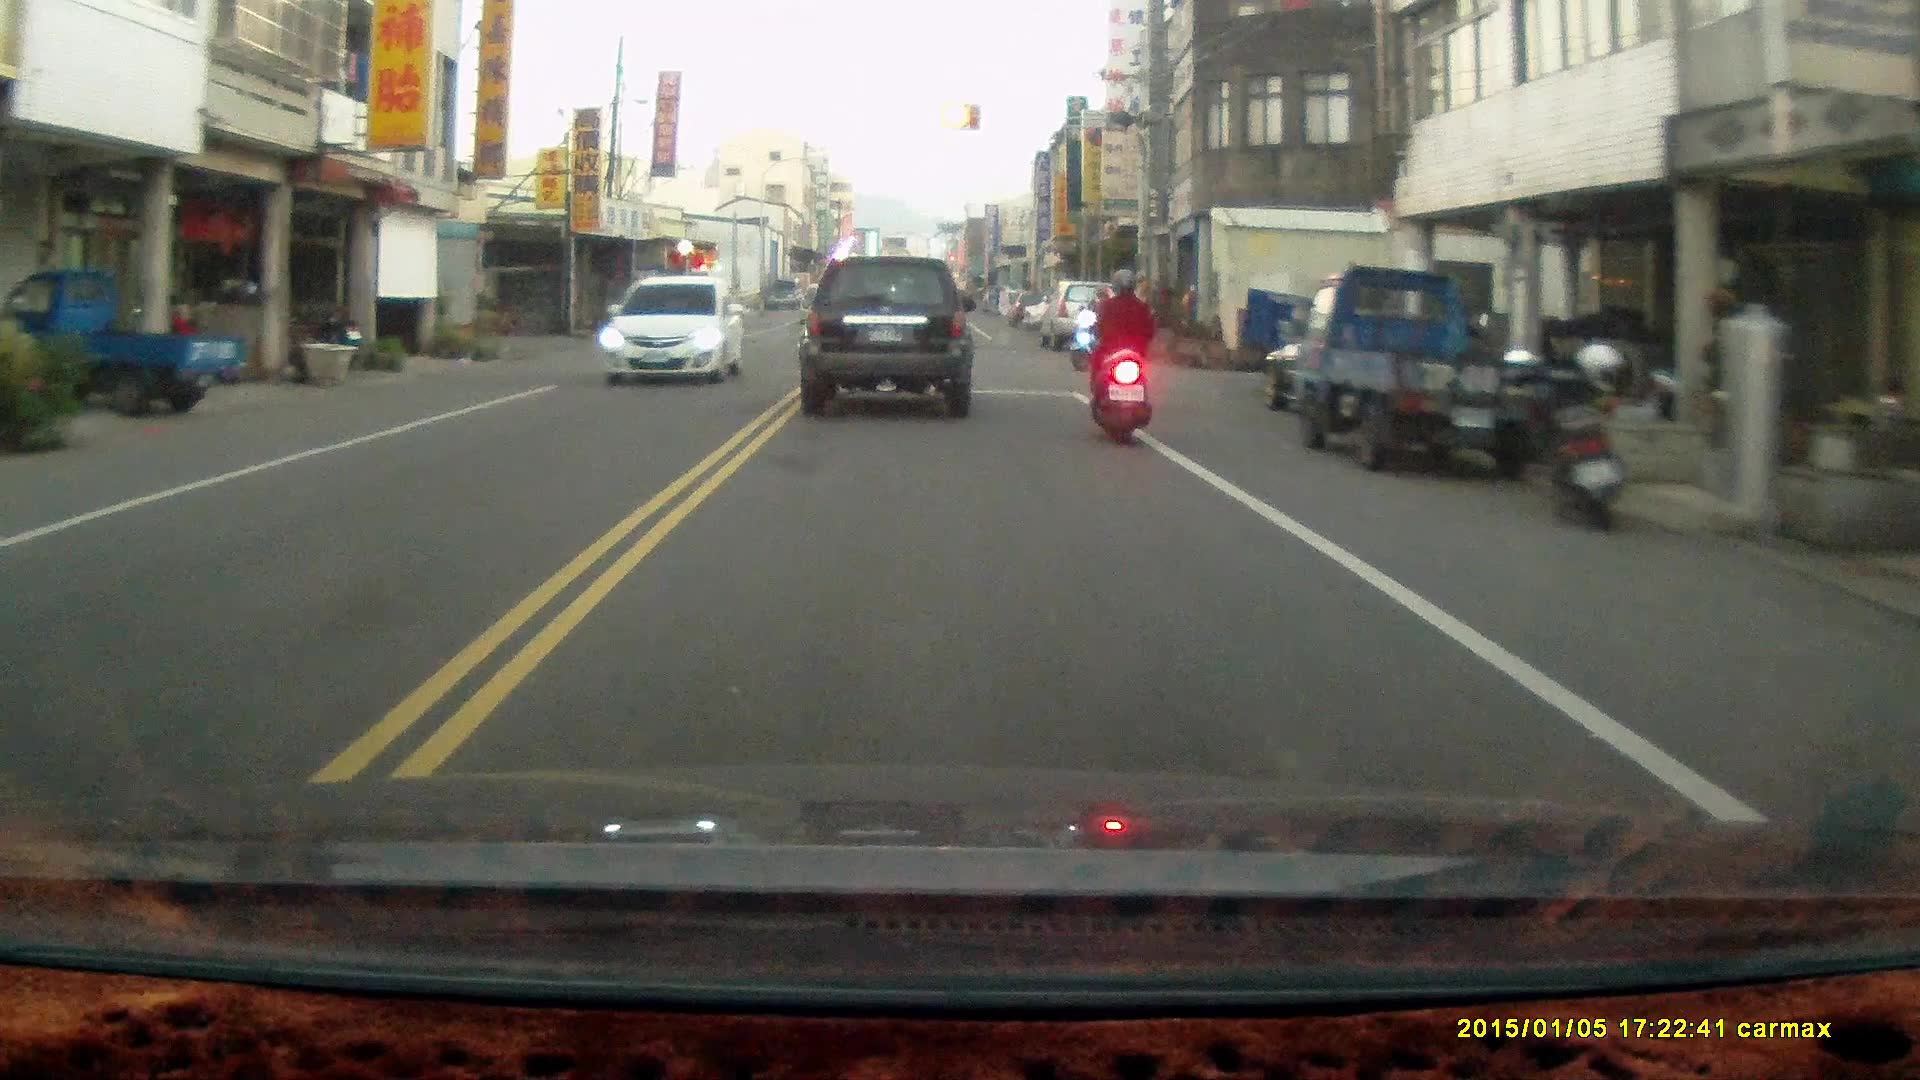rider: (1087, 267, 1154, 451), (1069, 287, 1125, 371)
vehicle: (1292, 262, 1565, 479), (1, 267, 241, 416), (796, 255, 977, 423), (597, 276, 748, 389), (1040, 278, 1125, 350)
